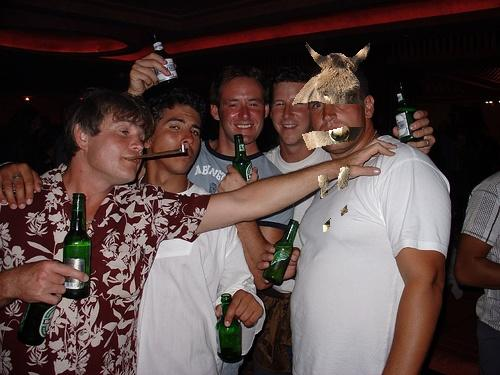tampered: (293, 43, 370, 232)
